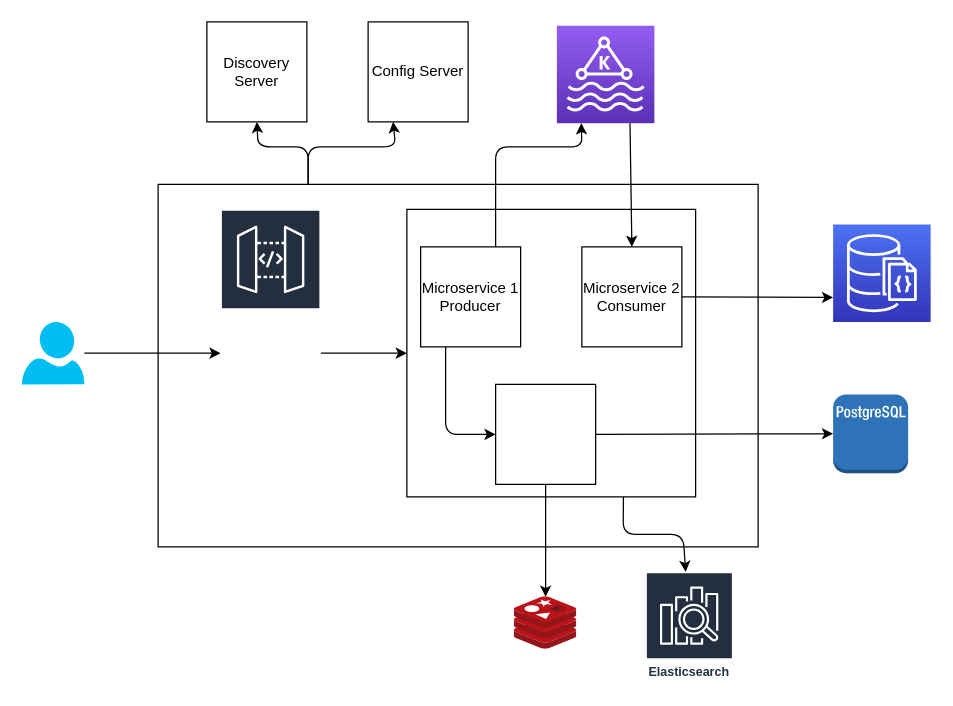
The diagram is 953 pixels wide and 706 high, and some of its shapes have lost their labels. The centre of each missing label's shape, as x and y in pixels:
API Gateway: the point at 270,352
Microservice 3: the point at 545,433
